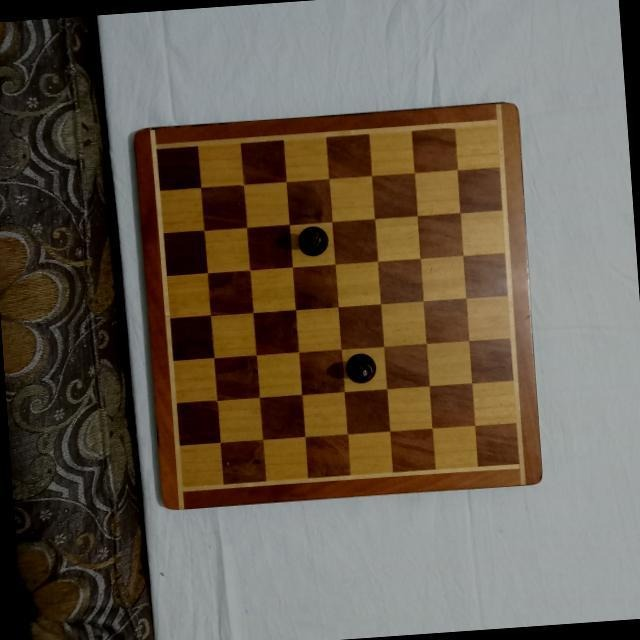black-bishop: (342, 351, 377, 387), (296, 223, 331, 258)
